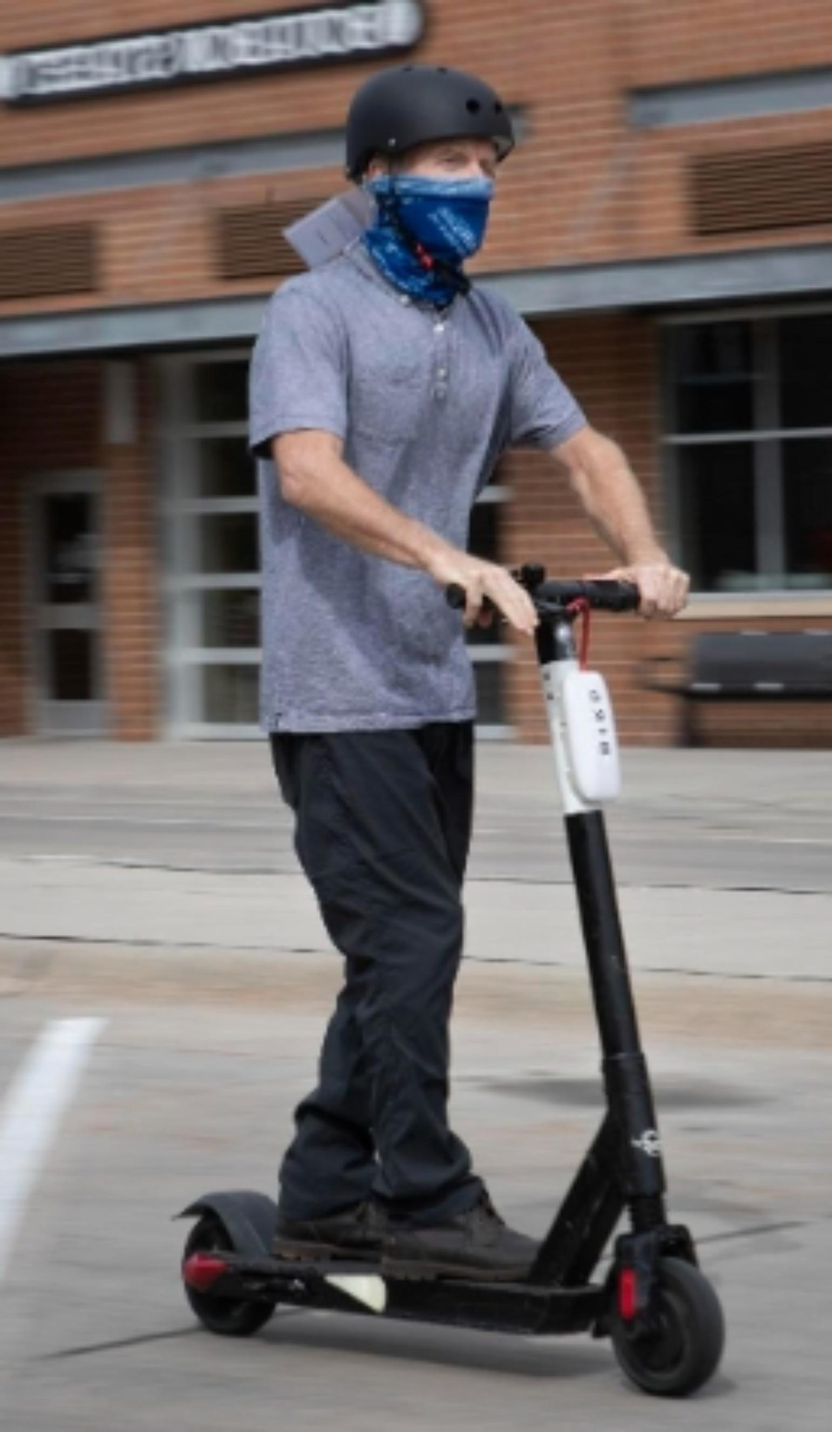helmet: (345, 64, 515, 276)
human: (255, 67, 608, 1258)
kickboard: (174, 1179, 731, 1407)
